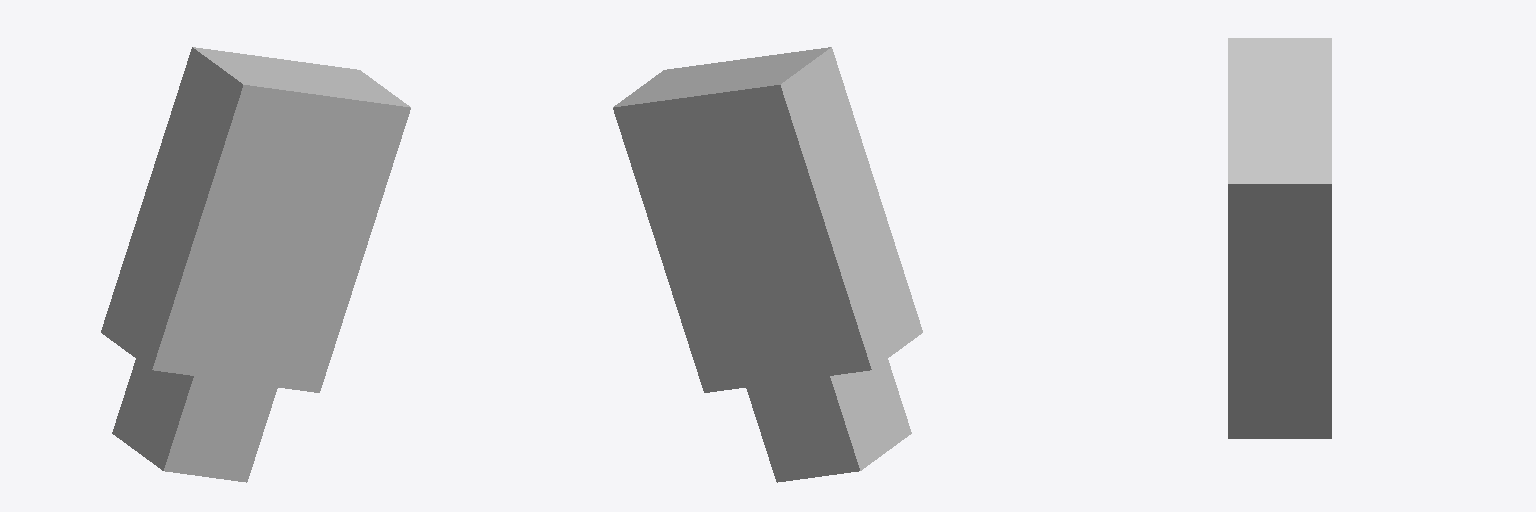
The model's file is chisel.obj.
3 renders of one model, left to right at view 1: azimuth 30°, elevation 25°; view 2: azimuth 150°, elevation 25°; view 3: azimuth 270°, elevation 25°, orthographic.
Parts seen in each view (by area): view 1: Flint, Stick; view 2: Flint, Stick; view 3: Flint, Stick.
Part boxes in pixels (bbox=[...]): Flint: bbox=[101, 47, 410, 392]; Stick: bbox=[112, 359, 277, 482]; Flint: bbox=[613, 47, 922, 392]; Stick: bbox=[746, 359, 911, 482]; Flint: bbox=[1228, 38, 1331, 401]; Stick: bbox=[1228, 402, 1331, 438].
Bounding box in the file's own units: 0.7264 × 1.07 × 0.25.